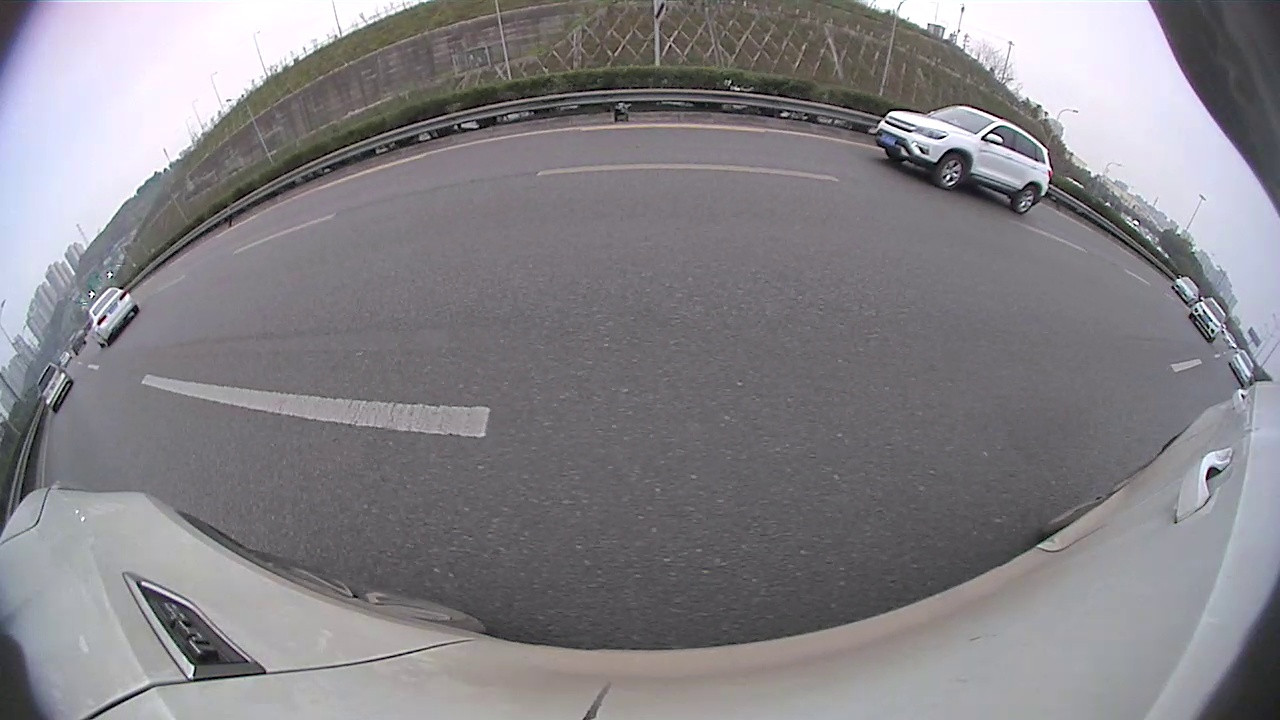car: (872, 101, 1055, 218), (86, 284, 139, 351), (35, 363, 76, 416), (1188, 295, 1226, 346), (1228, 348, 1258, 387), (1170, 273, 1201, 308)
front: (934, 155, 966, 189)
rear: (1014, 186, 1039, 215)
